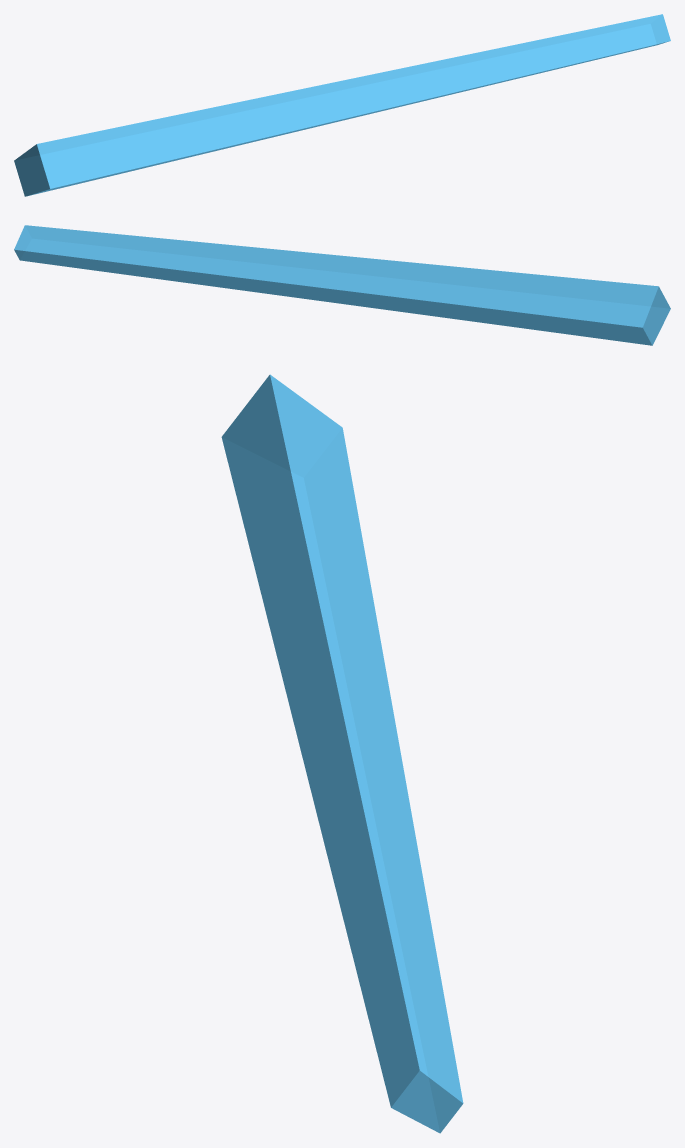
File: Event_420604493_HErechit_12.fbx
3 views of the same model, one above another, from view 1: azimuth 30°, elevation 25°; view 2: azimuth 150°, elevation 25°; view 3: azimuth 270°, elevation 25° (orthographic). The views are drawn at different scales.
Visible parts, largest first — view 1: Model; view 2: Model; view 3: Model.
Boxes of the visible parts, left/top/right/bottom form: Model: left=14, top=14, right=670, bottom=196; Model: left=14, top=225, right=670, bottom=345; Model: left=221, top=374, right=463, bottom=1133.
Bounding box in the file's own units: 6.92 × 0.9783 × 1.21.
